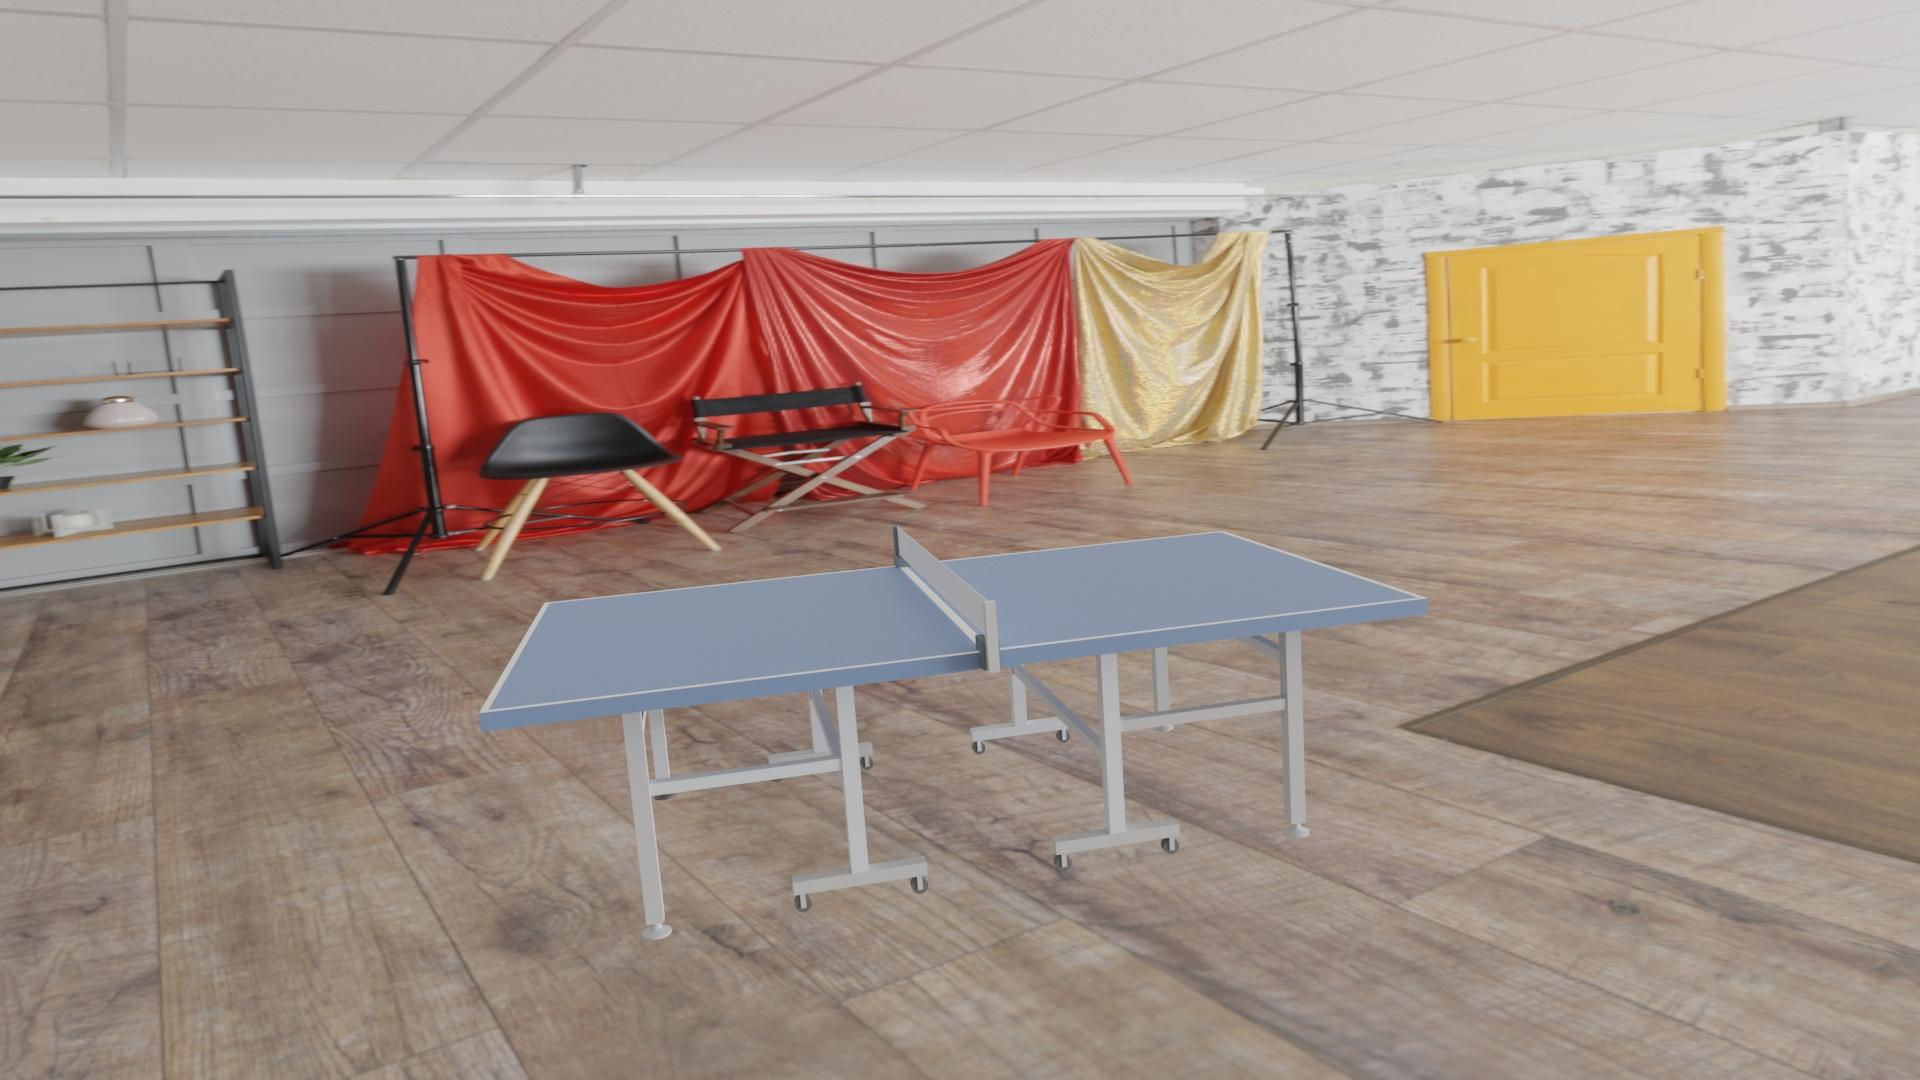table: (488, 531, 1419, 709)
